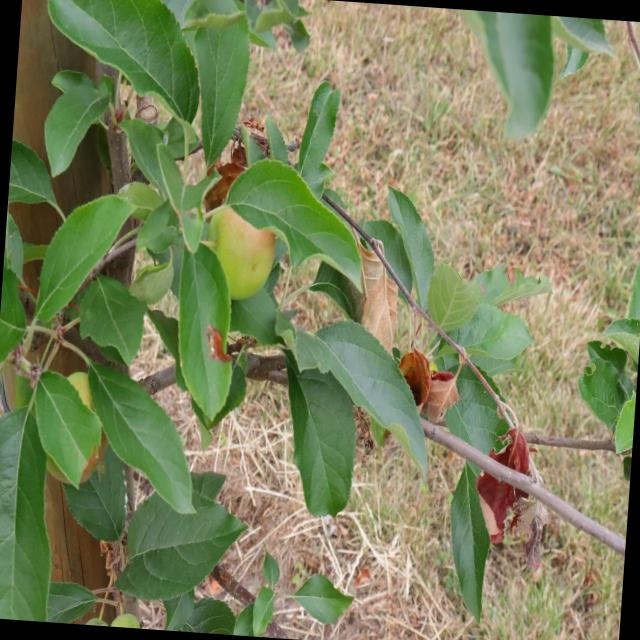-FireBlight-: (483, 430, 549, 581), (402, 324, 472, 426)
